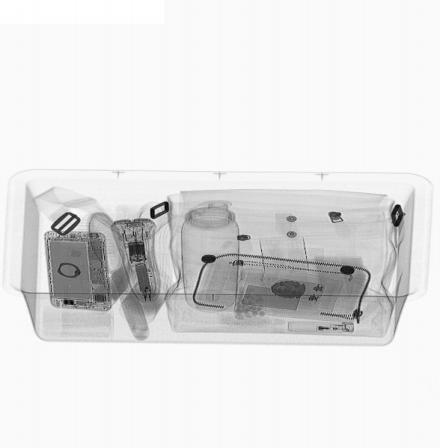Lighter: (281, 320, 357, 335)
